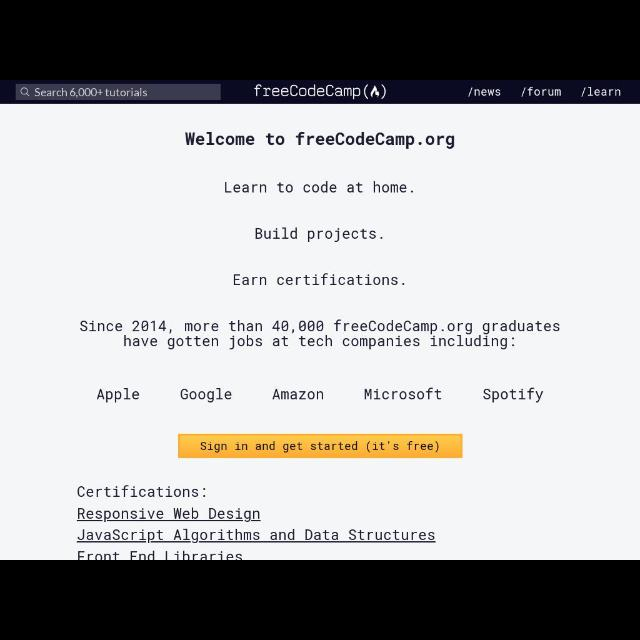icon: (21, 86, 31, 96)
image: (253, 83, 389, 101)
input: (16, 84, 220, 100)
text: (78, 317, 562, 353), (76, 526, 440, 544), (184, 130, 458, 150), (76, 506, 264, 524), (200, 440, 440, 454), (222, 178, 416, 194), (232, 272, 406, 288), (76, 484, 208, 500), (254, 225, 384, 241), (76, 549, 242, 559), (364, 385, 446, 401), (180, 384, 234, 404), (481, 386, 544, 402), (272, 385, 324, 403), (34, 88, 148, 96), (96, 385, 144, 403), (520, 84, 564, 98), (580, 85, 622, 96), (468, 85, 502, 97)
textbutton: (178, 434, 464, 458)
toolbar: (1, 80, 639, 104)
